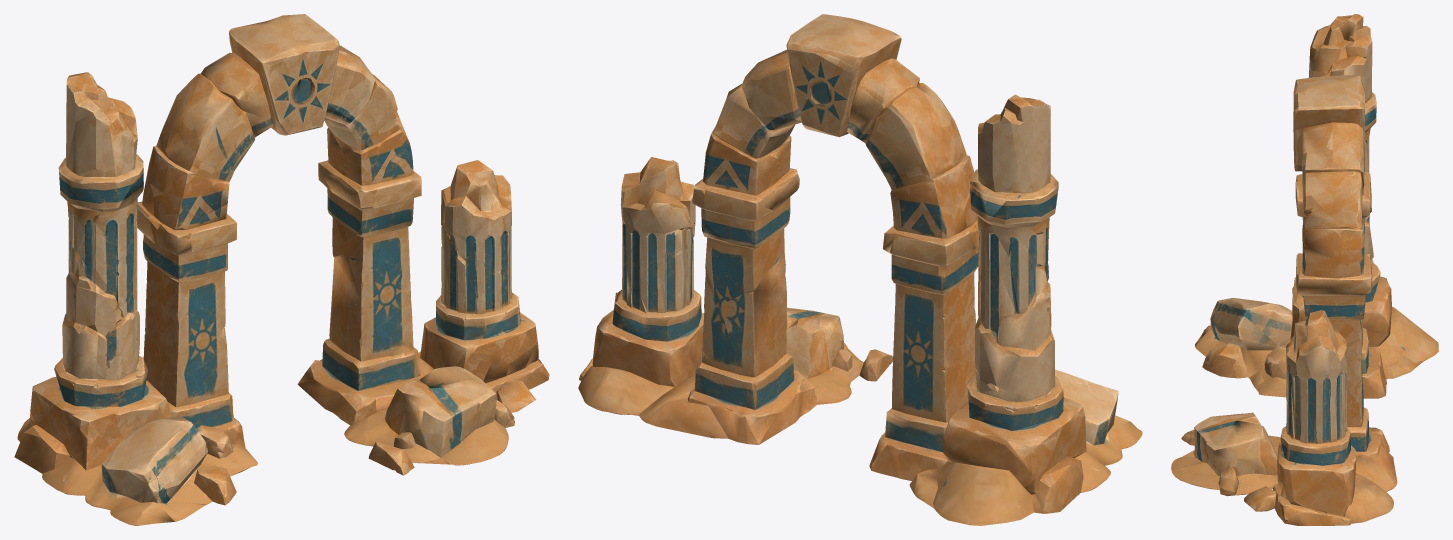
File: desert_ruin.glb
3 views of the same model, side by side, from view 1: azimuth 30°, elevation 25°; view 2: azimuth 150°, elevation 25°; view 3: azimuth 270°, elevation 25° (orthographic). The views are drawn at different scales.
Size of the model in its own units: 1.9 by 1.46 by 1.05.
1 material, 1 textured.
